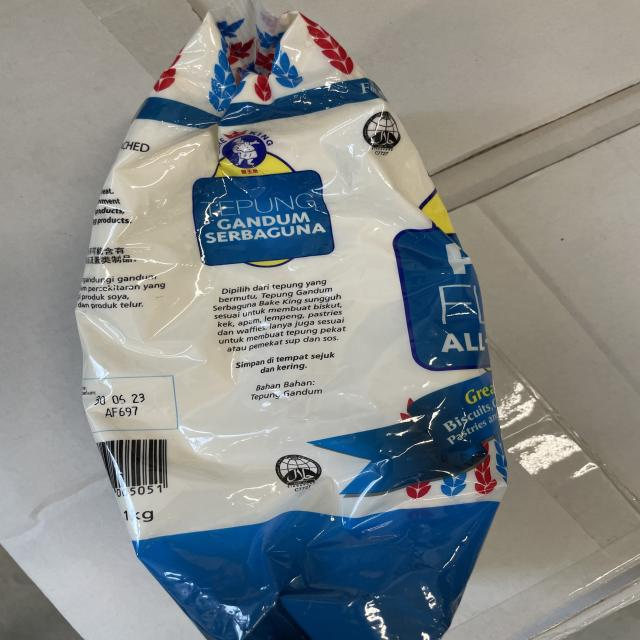object_name: (111, 21, 479, 627)
